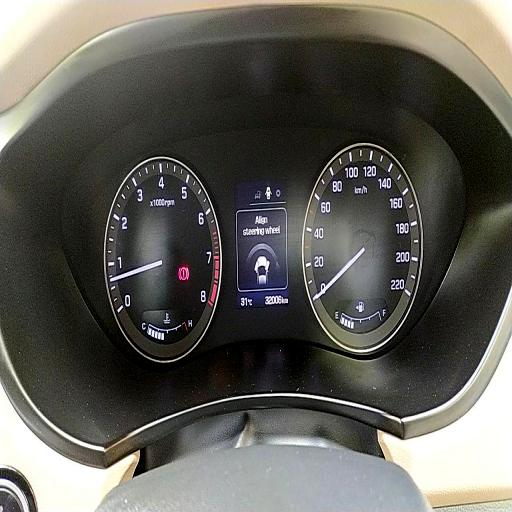brake_system_fault: (178, 266, 189, 282)
tachometer: (103, 153, 221, 360)
